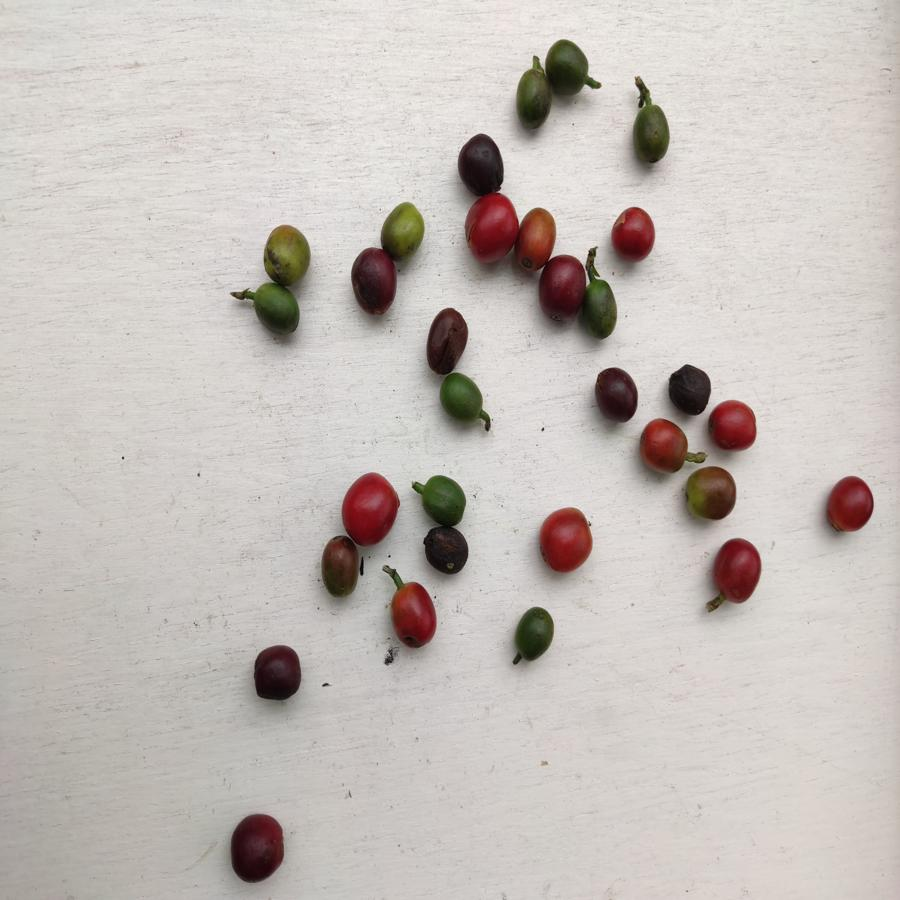Inmaduro: (252, 282, 301, 338), (630, 102, 672, 166), (545, 39, 591, 96), (512, 605, 556, 662), (514, 68, 553, 132), (419, 475, 466, 525), (442, 373, 487, 424), (583, 278, 619, 338)
Maduro: (340, 472, 400, 540), (462, 195, 518, 267), (538, 507, 595, 572), (385, 582, 438, 647), (715, 538, 762, 607), (637, 415, 689, 477), (827, 475, 874, 535), (610, 206, 657, 264), (709, 398, 756, 451)
Pinton: (683, 465, 737, 522), (265, 225, 311, 285), (321, 537, 362, 598), (384, 199, 426, 258), (518, 208, 554, 268)
Sobremaduro: (230, 813, 287, 885), (349, 251, 397, 316), (457, 132, 508, 193), (252, 643, 303, 702), (425, 308, 470, 372), (538, 257, 583, 319), (591, 365, 638, 422), (422, 526, 471, 578), (668, 361, 708, 415)
